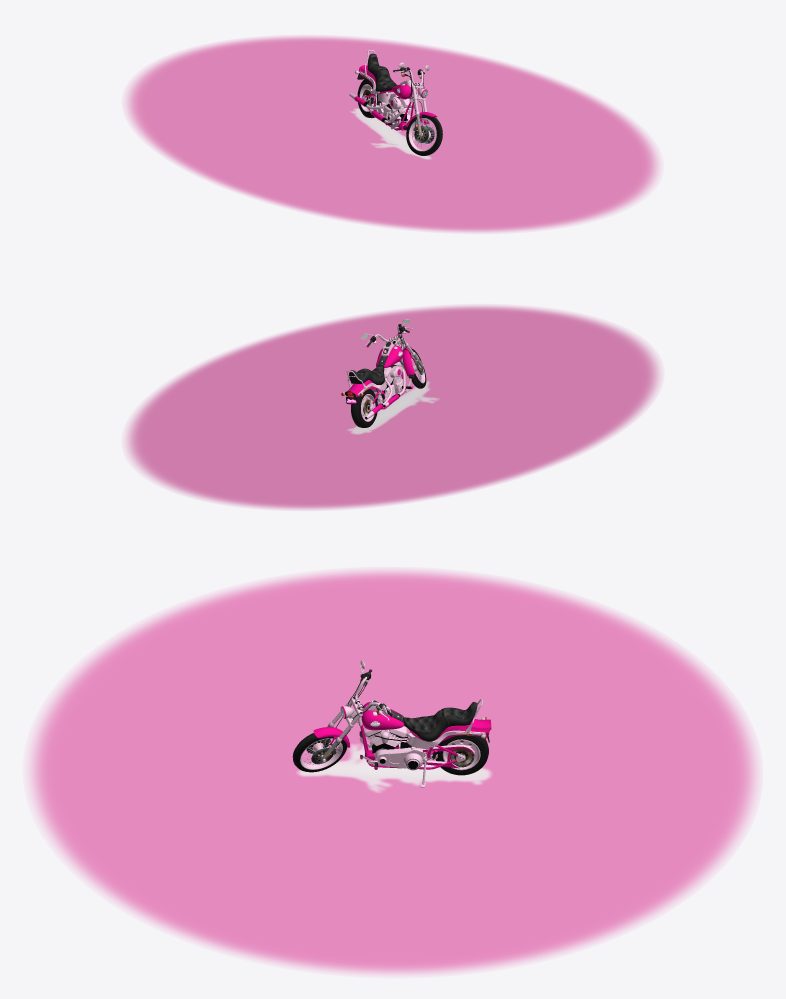
File: barb.glb
3 renders of one model, top to bottom at view 1: azimuth 30°, elevation 25°; view 2: azimuth 150°, elevation 25°; view 3: azimuth 270°, elevation 25°, orthographic. The views are drawn at different scales.
Visible parts, largest first — view 1: Object_12, Object_11, Object_16, Object_21, Object_3, Object_15; view 2: Object_12, Object_11, Object_16, Object_3, Object_21, Object_15; view 3: Object_12, Object_11, Object_16, Object_3, Object_15, Object_21, Object_6.
Part boxes in pixels (box(x1,y1,x2,y2)): Object_12: box(123, 35, 661, 233); Object_11: box(349, 50, 436, 151); Object_16: box(350, 108, 431, 159); Object_21: box(357, 78, 442, 155); Object_3: box(354, 65, 436, 126); Object_15: box(367, 53, 396, 91); Object_12: box(123, 305, 662, 510); Object_11: box(343, 319, 425, 421); Object_16: box(347, 381, 439, 434); Object_3: box(347, 331, 415, 414); Object_21: box(351, 348, 426, 427); Object_15: box(349, 365, 384, 384); Object_12: box(26, 568, 760, 976); Object_11: box(300, 660, 485, 787); Object_16: box(296, 744, 491, 792); Object_3: box(313, 669, 490, 757); Object_15: box(403, 702, 477, 741); Object_21: box(292, 733, 488, 775); Object_6: box(360, 725, 487, 769).
Size of what is drawn, in the model's own units: 10.09 by 2.42 by 10.16.
Materials: 20 (13 with a texture image).
